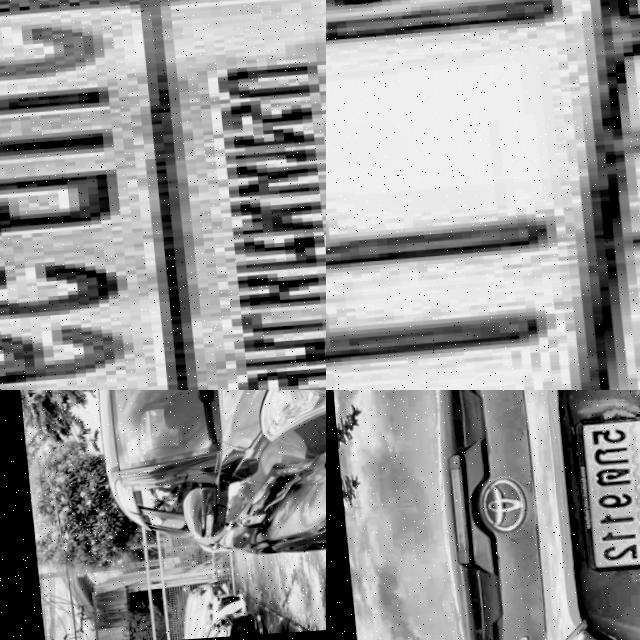license-plate: (0, 0, 326, 390), (326, 0, 640, 390), (570, 416, 640, 575)
